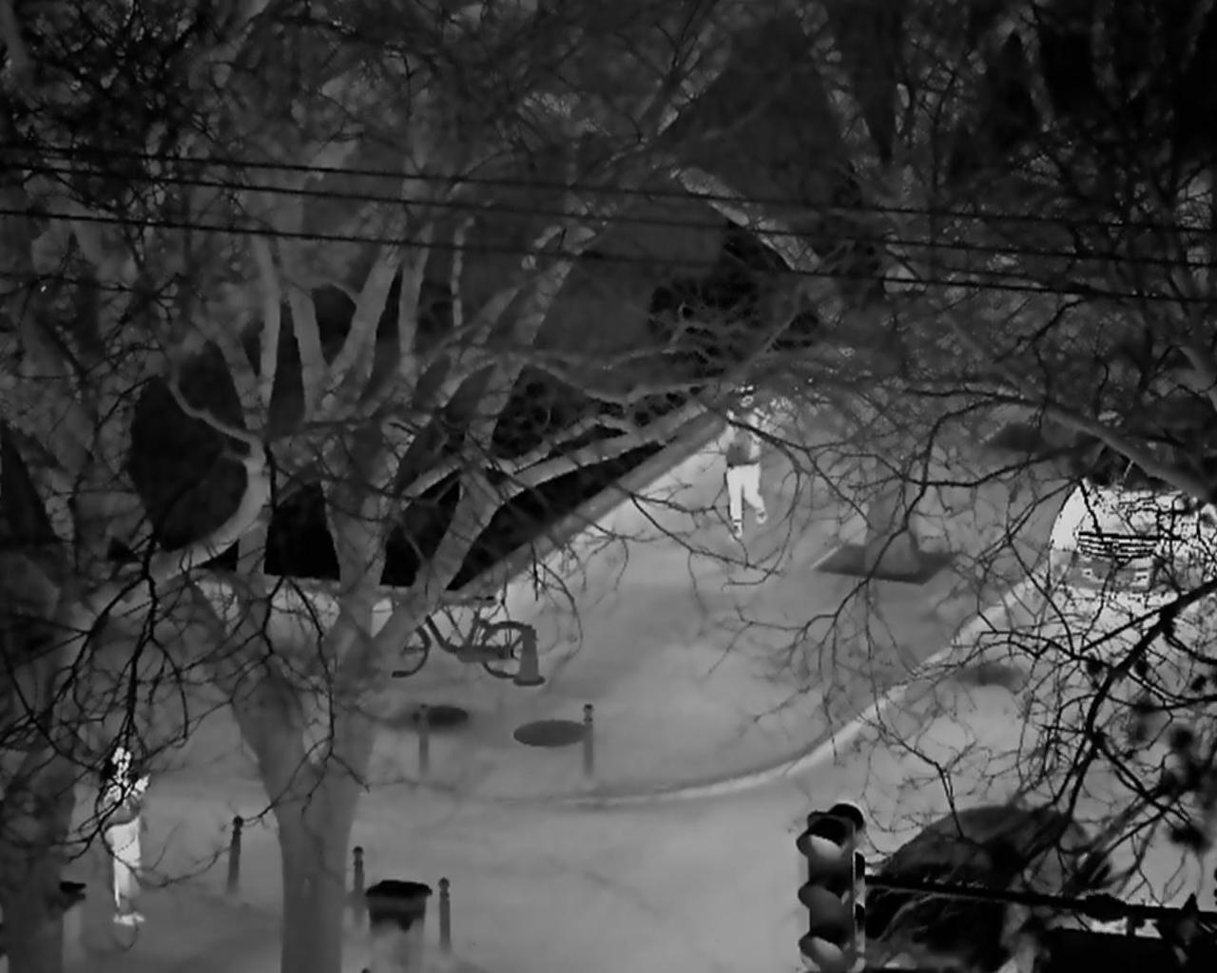person: (101, 746, 150, 924), (718, 410, 766, 539)
